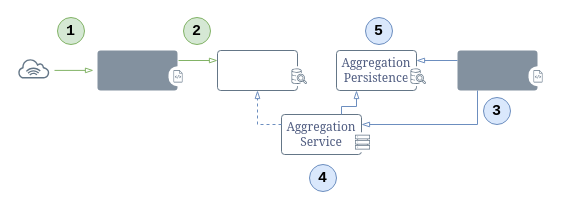
The diagram is 576 pixels wide and 209 high, and some of its shapes have lost their labels. Each missing label, with the box of its shape:
Ingestion Service: (97, 50, 177, 90)
Metrics Persistence: (216, 50, 298, 90)
Query Service: (457, 50, 537, 90)
